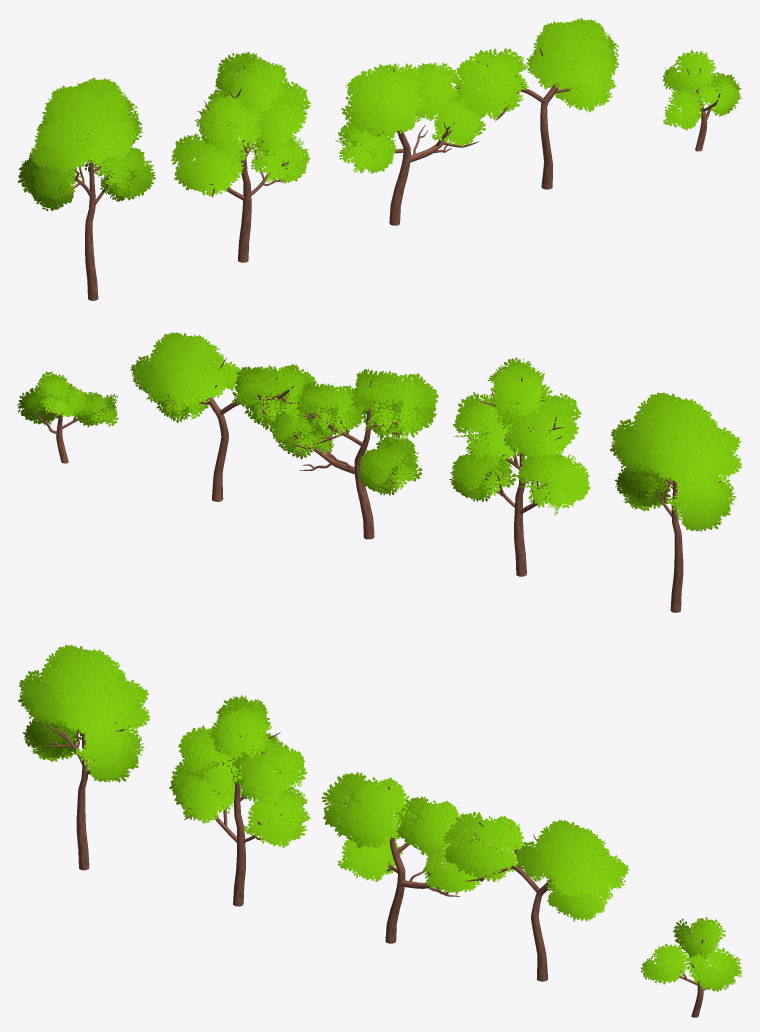
Rendered from Normal Trees.fbx.
The picture shows the model from 3 angles, top to bottom: view 1: azimuth 30°, elevation 25°; view 2: azimuth 150°, elevation 25°; view 3: azimuth 330°, elevation 25°; orthographic projection.
Parts seen in each view (by area): view 1: Normal Tree 2, Normal Tree 1, Normal Tree 3, Normal Tree 4, Normal Tree 5; view 2: Normal Tree 2, Normal Tree 1, Normal Tree 3, Normal Tree 4, Normal Tree 5; view 3: Normal Tree 2, Normal Tree 1, Normal Tree 4, Normal Tree 3, Normal Tree 5.
Boxes of the visible parts, box(x1,y1,x2,y2) form: Normal Tree 2: box(171, 52, 310, 262); Normal Tree 1: box(18, 77, 155, 300); Normal Tree 3: box(335, 62, 486, 225); Normal Tree 4: box(453, 18, 618, 189); Normal Tree 5: box(662, 50, 741, 151); Normal Tree 2: box(449, 357, 590, 576); Normal Tree 1: box(610, 392, 742, 612); Normal Tree 3: box(269, 369, 438, 539); Normal Tree 4: box(130, 332, 316, 501); Normal Tree 5: box(17, 371, 118, 463); Normal Tree 2: box(169, 695, 310, 906); Normal Tree 1: box(18, 645, 150, 870); Normal Tree 4: box(443, 811, 629, 981); Normal Tree 3: box(321, 772, 481, 943); Normal Tree 5: box(641, 917, 742, 1017).
Size of the model in its own units: 7102 by 2060 by 899.
